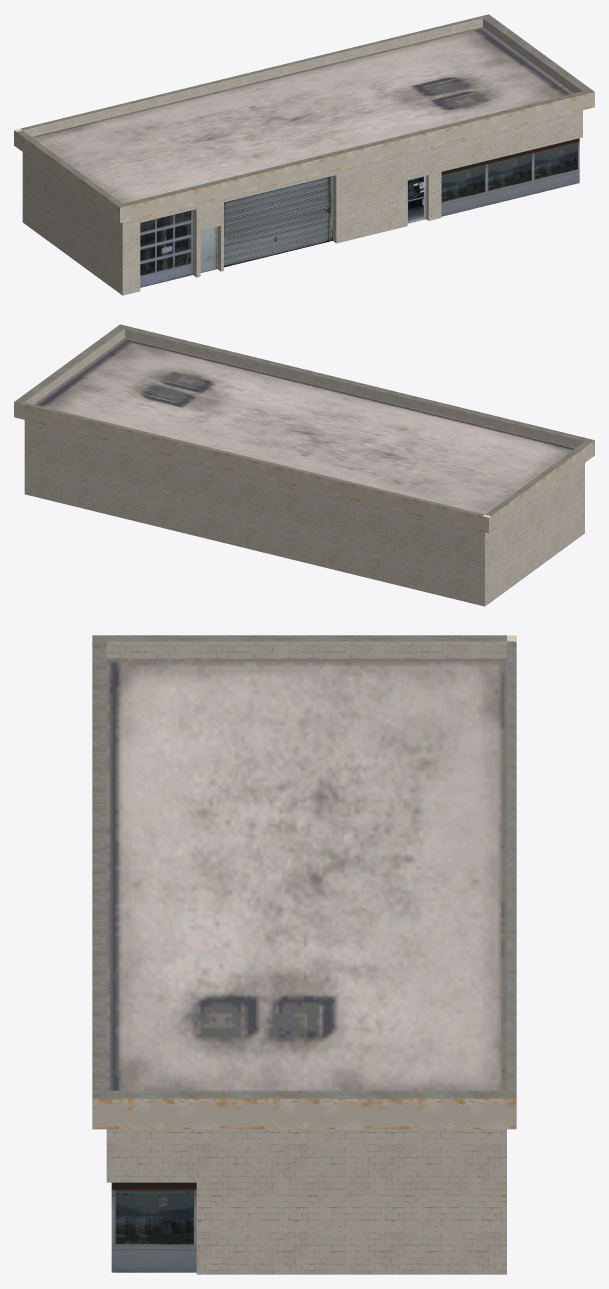
File: des_garagew.obj
3 renders of one model, top to bottom at view 1: azimuth 30°, elevation 25°; view 2: azimuth 150°, elevation 25°; view 3: azimuth 270°, elevation 25°, orthographic. The views are drawn at different scales.
Visible parts, largest first — view 1: des_garagew; view 2: des_garagew; view 3: des_garagew.
Part boxes in pixels (left/top/right/bottom): des_garagew: left=14, top=14, right=594, bottom=295; des_garagew: left=14, top=324, right=594, bottom=606; des_garagew: left=92, top=635, right=516, bottom=1274.
Size of the model in its own units: 22.67 by 4.2 by 8.78.
Materials: 9 (9 with a texture image).
